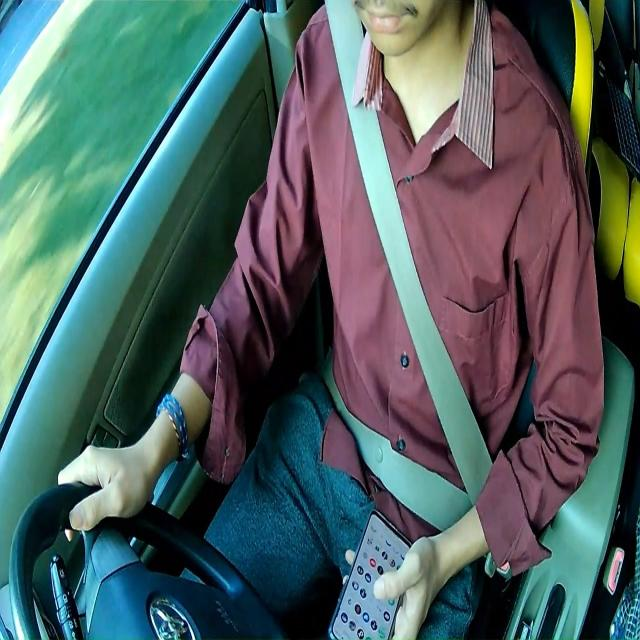phone: (328, 506, 414, 640)
